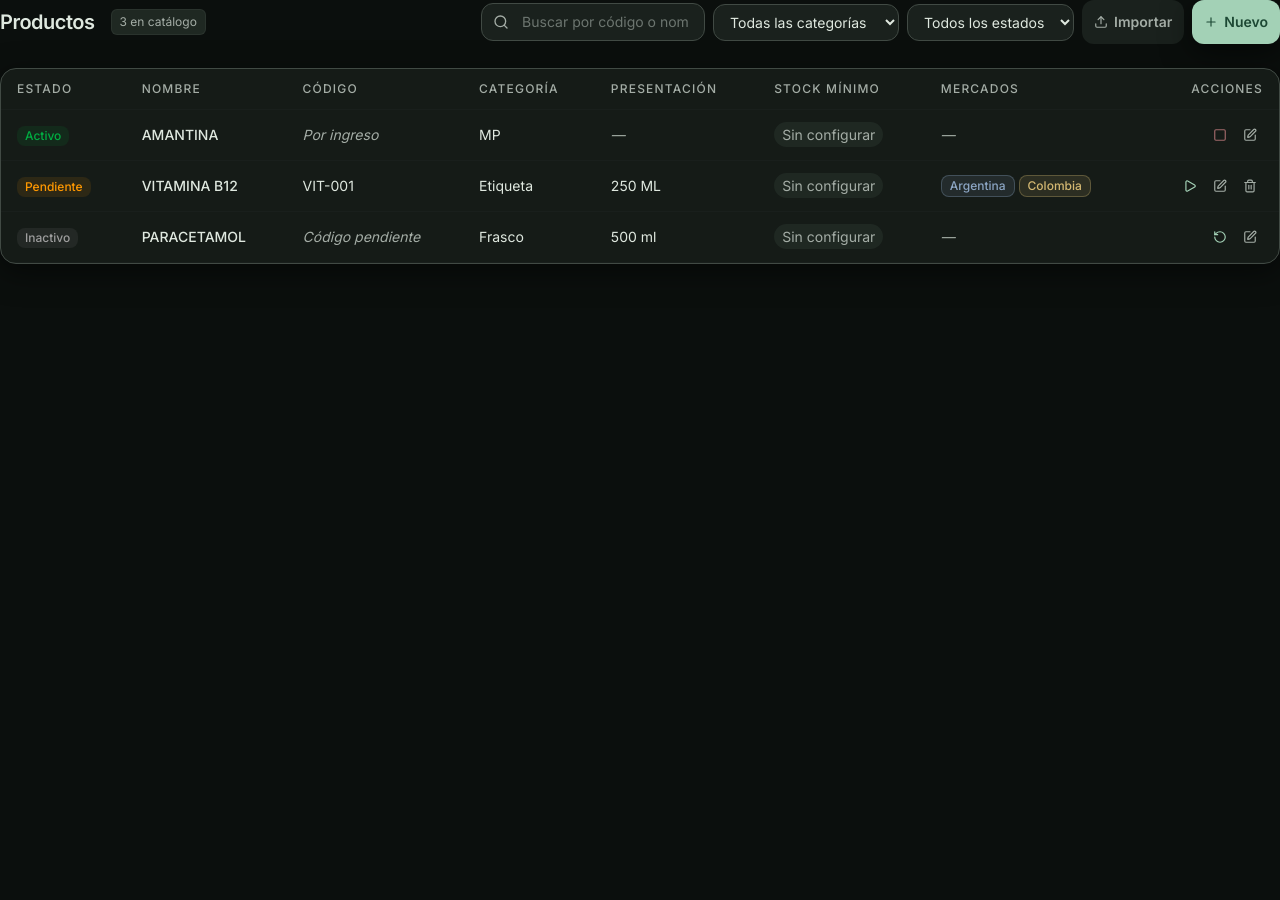
Test case: ProductosPage › 4.3: Create form conditional fields › etiqueta category shows market and presentation fields
This screenshot has width=1280, height=900.
Click the button "Nuevo": (1236, 22) [1192,0,1279,44]
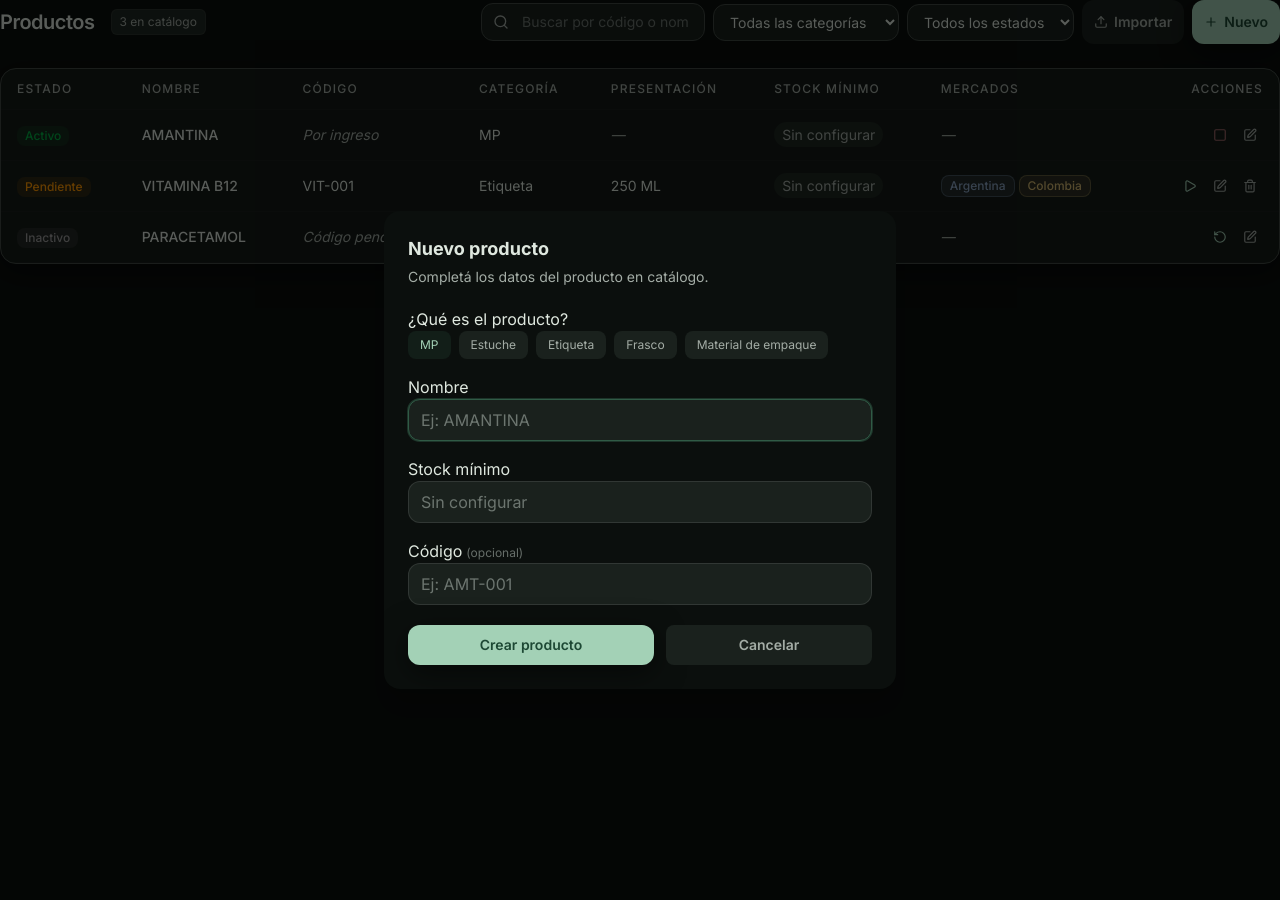
Expected: the heading "Nuevo producto" is shown, [408,238,549,259]
Click the button "Etiqueta": (571, 345) [536,331,606,359]
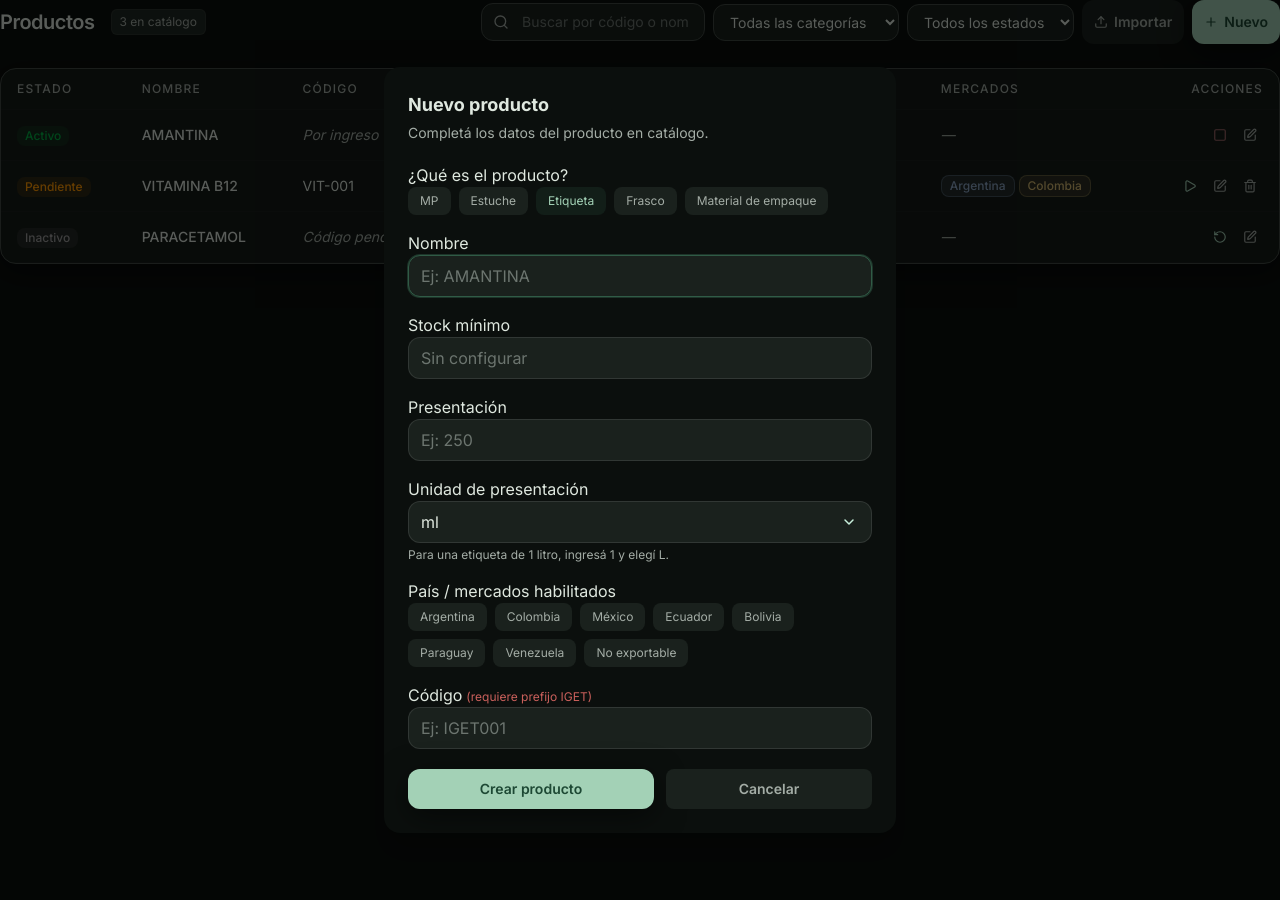
Expected: the number field labelled "Presentación" is shown, [408,419,872,461]
Expected: the button "Argentina" is shown, [408,603,487,631]
Expected: the button "Colombia" is shown, [495,603,572,631]
